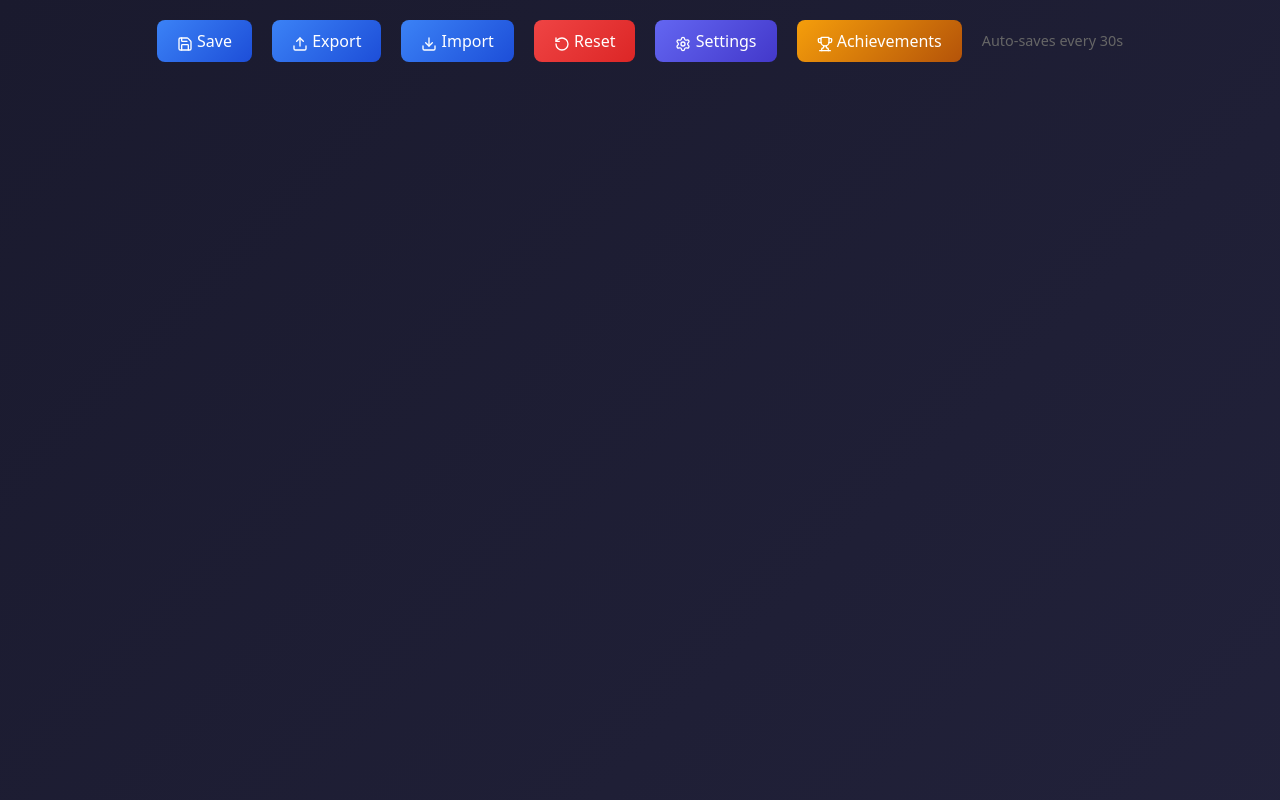
it: Footer › should show a toast when save button clicked
This screenshot has width=1280, height=800.
Click the button "Save".
click(204, 41)  # box [157,20,252,62]
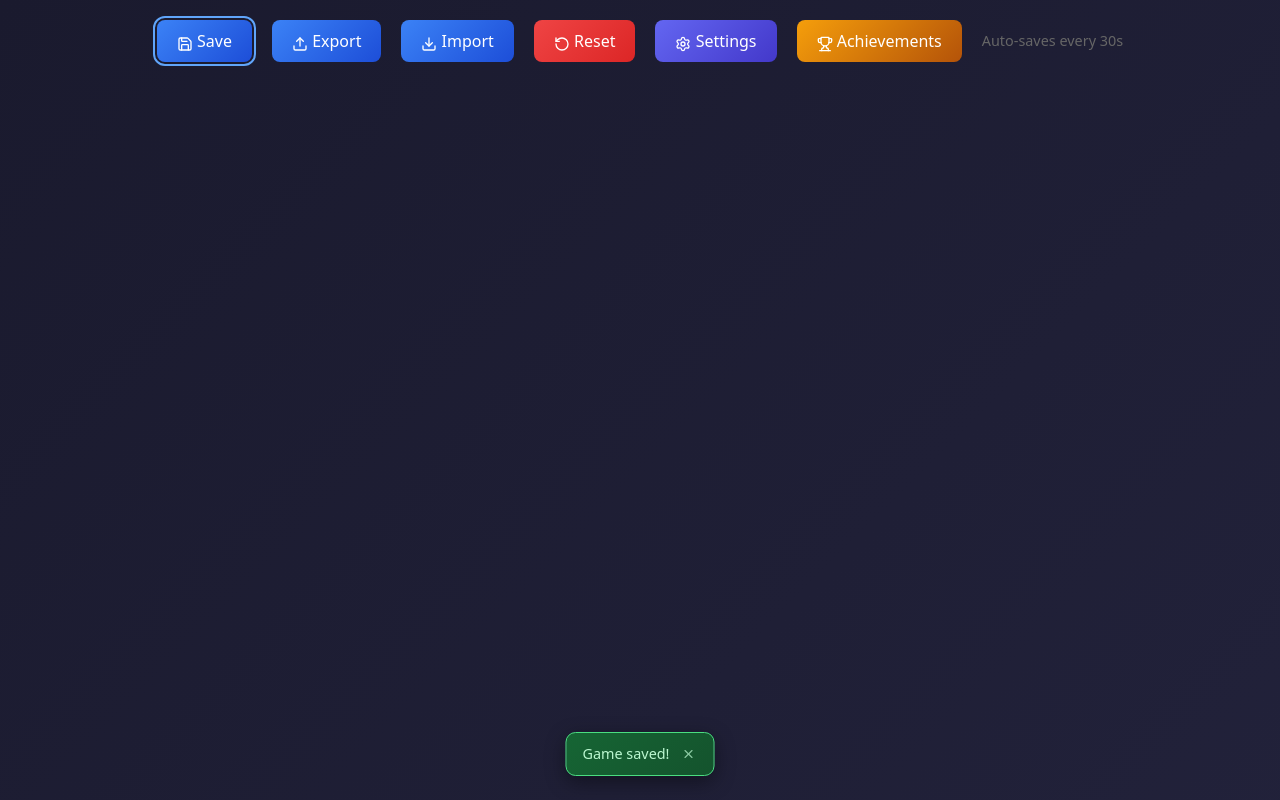
Check: the text "Game saved!" is shown, box [582,743,670,765]
